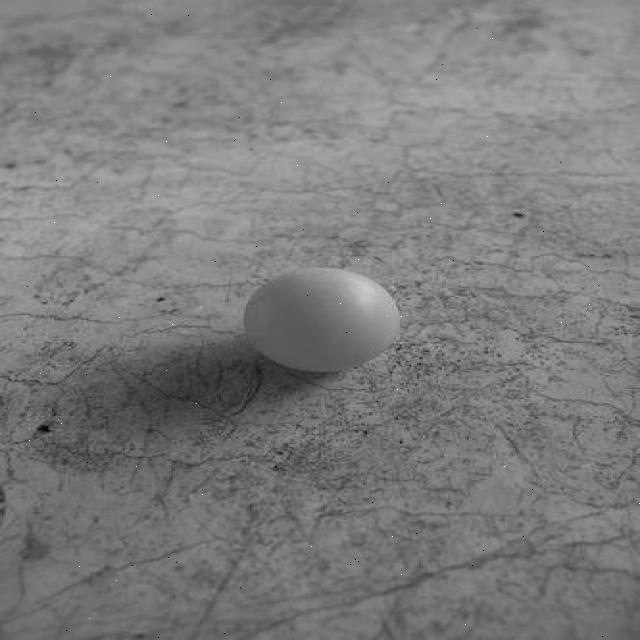ping-pong-ball: (238, 264, 408, 374)
